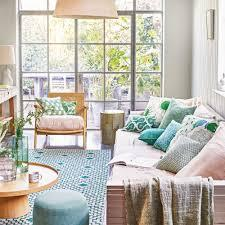chair: (28, 90, 91, 149)
light: (46, 0, 123, 24), (0, 34, 17, 87)
sofa: (108, 98, 225, 225)
table: (0, 167, 58, 216), (33, 190, 92, 224), (0, 86, 22, 135), (99, 108, 125, 145)
